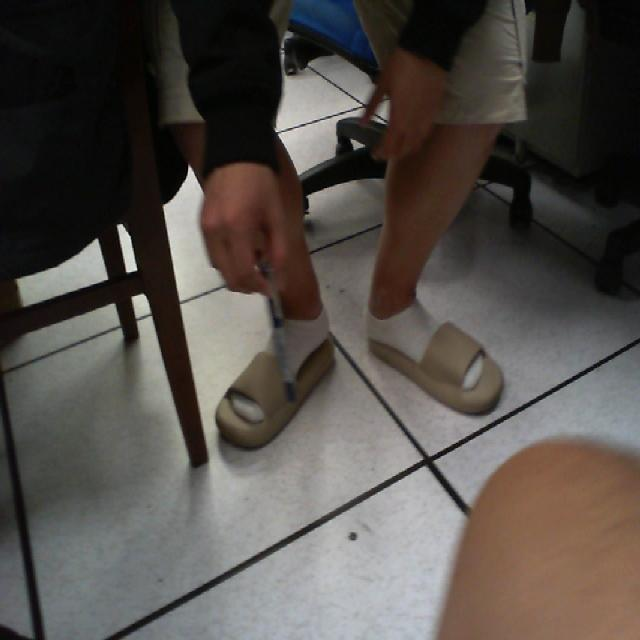Pen: (240, 248, 317, 419)
